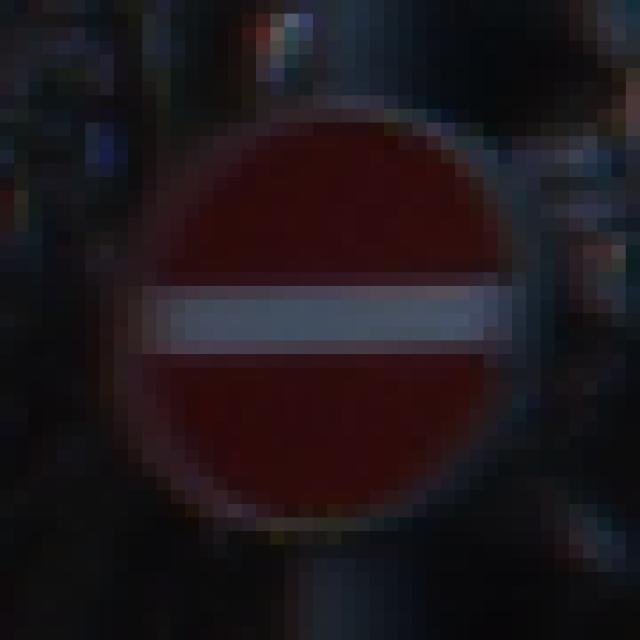No Entry: (86, 69, 570, 573)
